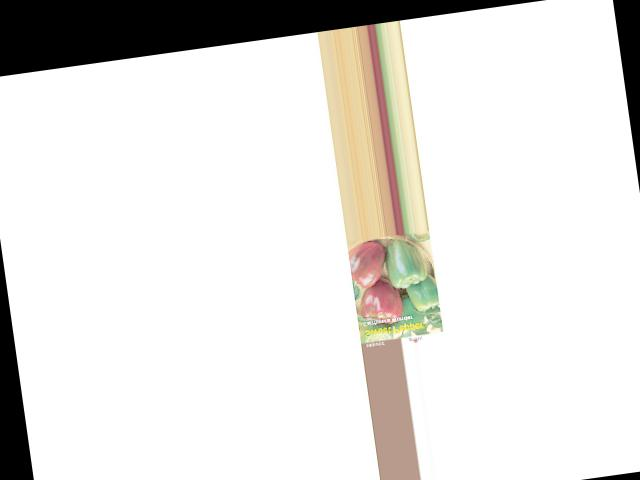bell_pepper: (407, 268, 442, 315)
